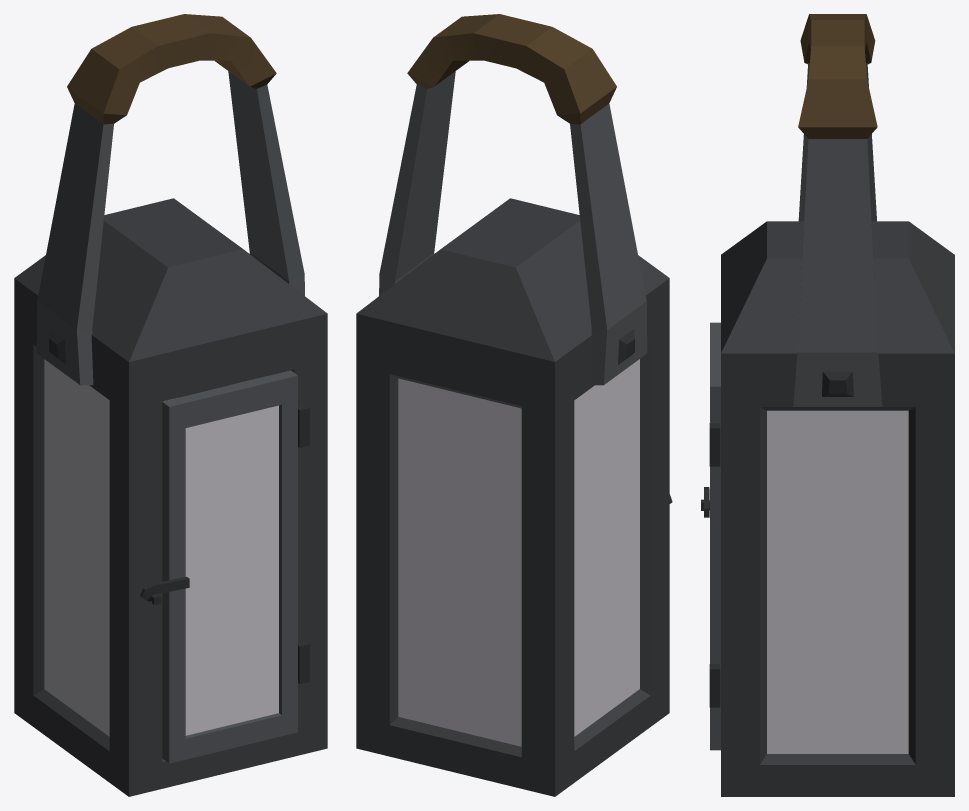
File: PT_Hand_Lantern_01.fbx
3 renders of one model, left to right at view 1: azimuth 30°, elevation 25°; view 2: azimuth 150°, elevation 25°; view 3: azimuth 270°, elevation 25°, orthographic.
Visible parts, largest first — view 1: PT_Hand_Lantern_01; view 2: PT_Hand_Lantern_01; view 3: PT_Hand_Lantern_01.
Part boxes in pixels (x1,y1,x2,y2): PT_Hand_Lantern_01: (14, 14, 327, 796); PT_Hand_Lantern_01: (356, 14, 672, 796); PT_Hand_Lantern_01: (701, 14, 954, 796).
Bounding box in the file's own units: 18.49 × 52.41 × 16.87.
